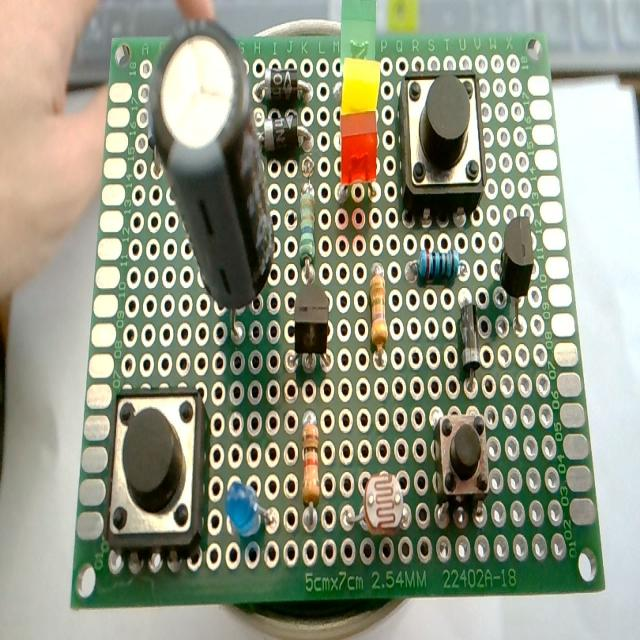Electrolytic capacitor: (146, 19, 282, 342)
cds: (344, 472, 415, 538)
diode: (459, 297, 482, 390), (259, 66, 307, 104), (264, 111, 300, 153)
led: (224, 480, 278, 542), (339, 116, 378, 186), (340, 0, 378, 70), (341, 56, 380, 116)
resistor: (301, 411, 321, 525), (299, 158, 316, 277), (369, 264, 387, 358), (417, 248, 461, 285)
switch: (104, 386, 207, 556), (398, 70, 487, 218), (433, 408, 489, 503)
transistor: (498, 215, 534, 331)
